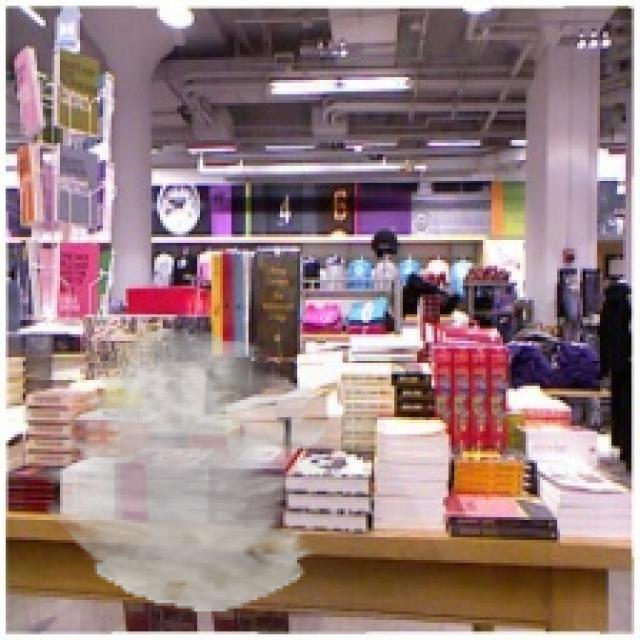Smoke: (43, 328, 326, 612)
